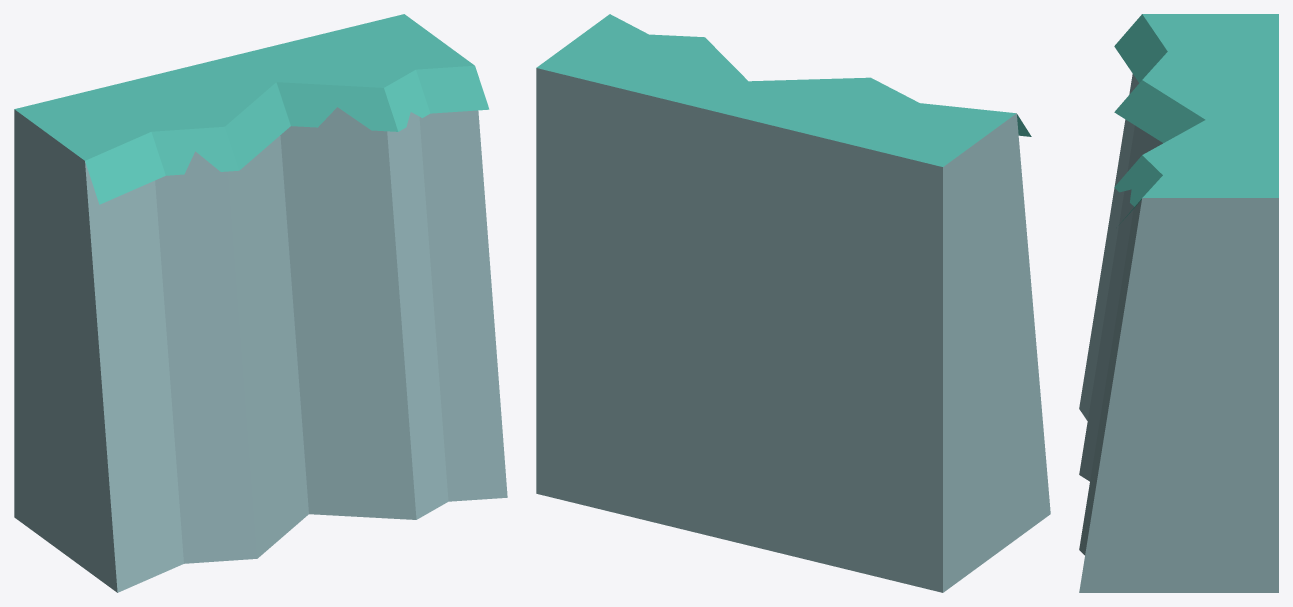
File: cliffGrey_top.fbx
The picture shows the model from 3 angles, left to right: view 1: azimuth 30°, elevation 25°; view 2: azimuth 150°, elevation 25°; view 3: azimuth 270°, elevation 25°; orthographic projection. The views are drawn at different scales.
Parts seen in each view (by area): view 1: cliffGrey_top; view 2: cliffGrey_top; view 3: cliffGrey_top.
Boxes of the visible parts, bbox=[...] form: cliffGrey_top: bbox=[14, 14, 507, 592]; cliffGrey_top: bbox=[536, 14, 1050, 592]; cliffGrey_top: bbox=[1079, 14, 1278, 592].
Bounding box in the file's own units: 10 × 10 × 4.58.
